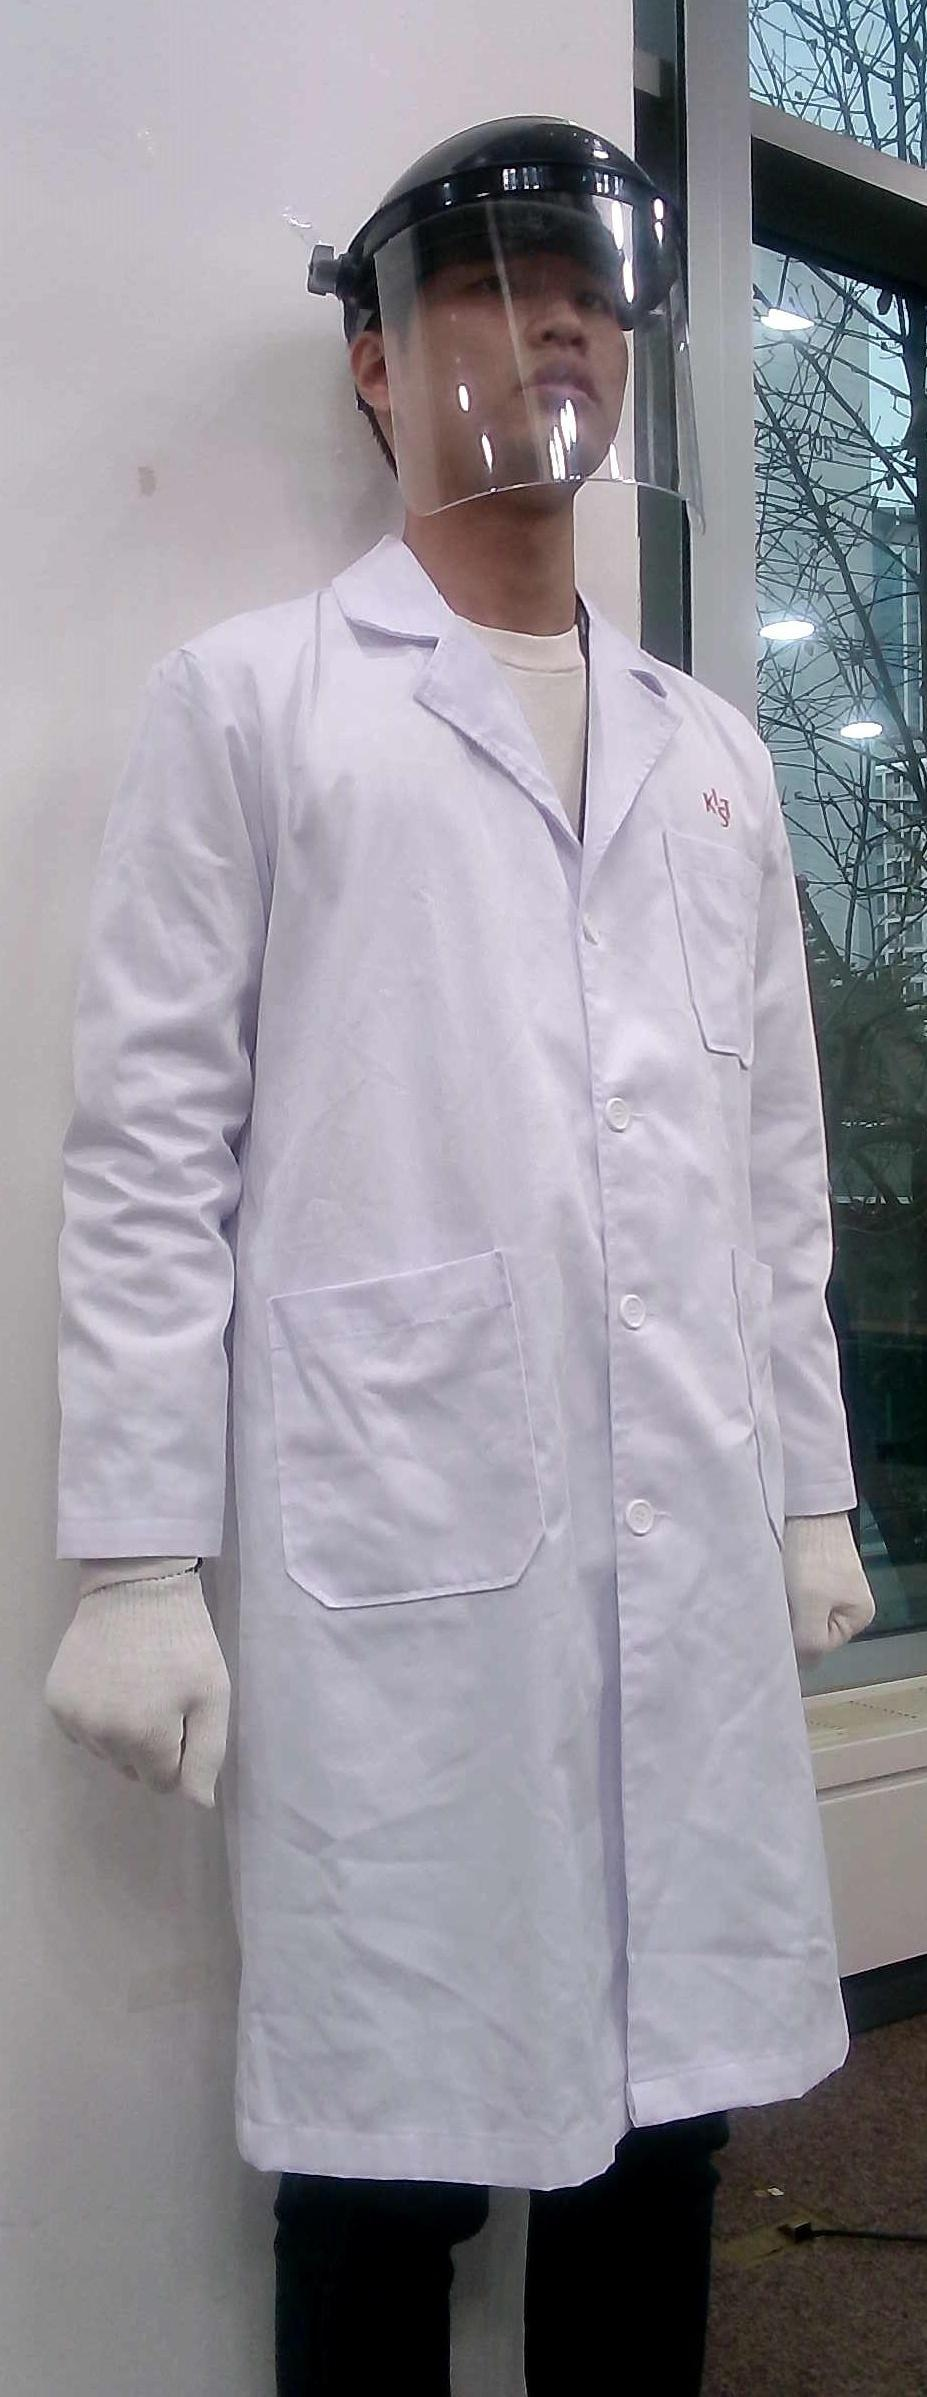lab_coat: (243, 722, 795, 2165)
